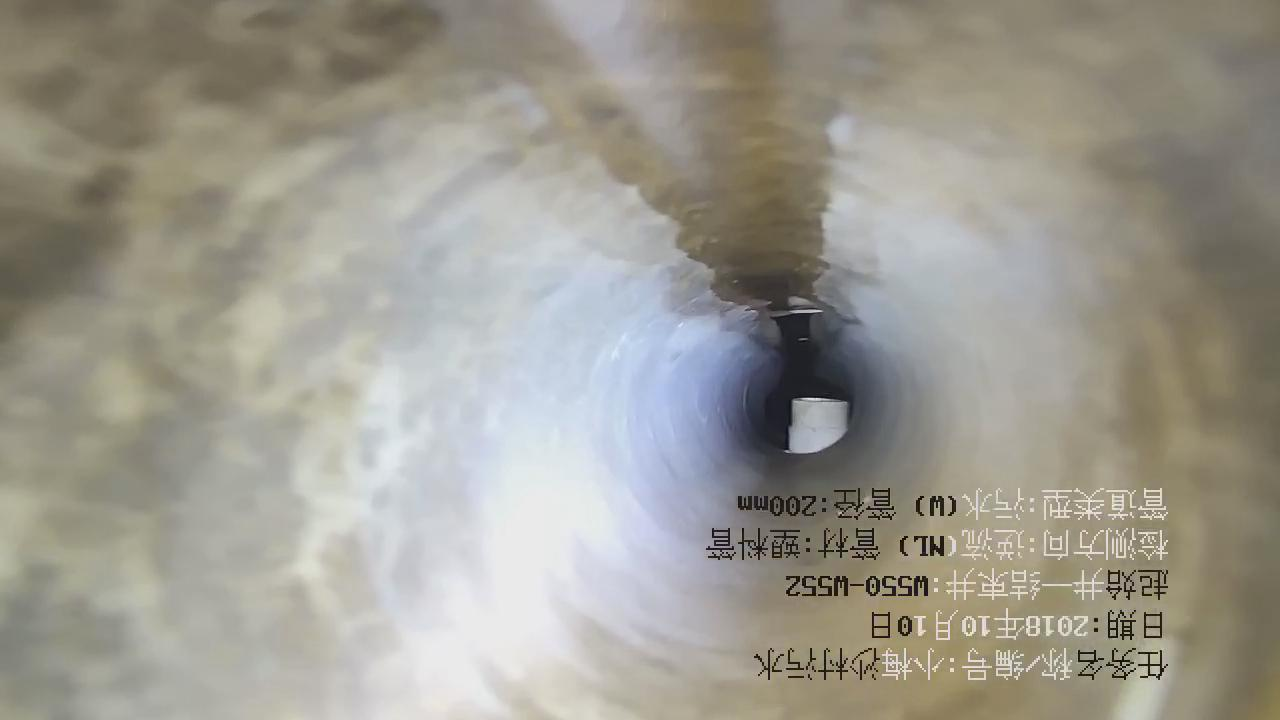ZGAJ: (787, 398, 849, 454)
